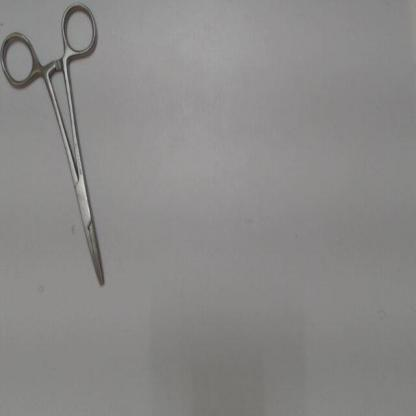Mayo Needle Holder: (1, 1, 114, 299)
